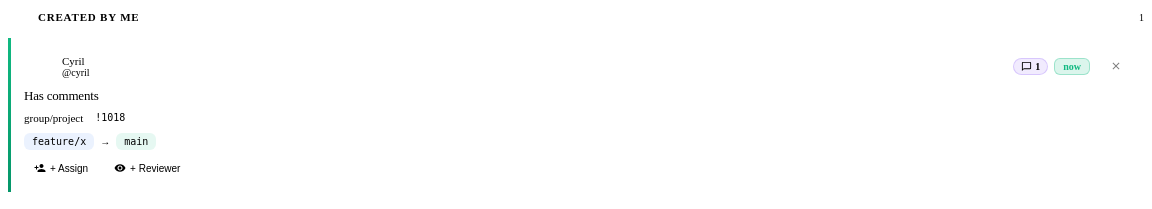
Scenario: MergeRequestsTab › clicking the notes badge fetches and displays comments
Check: the text "Has comments" is shown, box [24,88,98,103]
Click the element titled "Click to view comments" at [1031, 66], box [1013,58,1048,74]
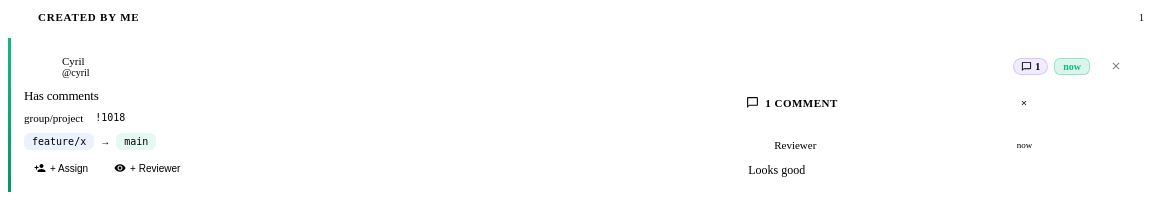
Check: the text "Looks good" is shown, box [748,162,805,176]
